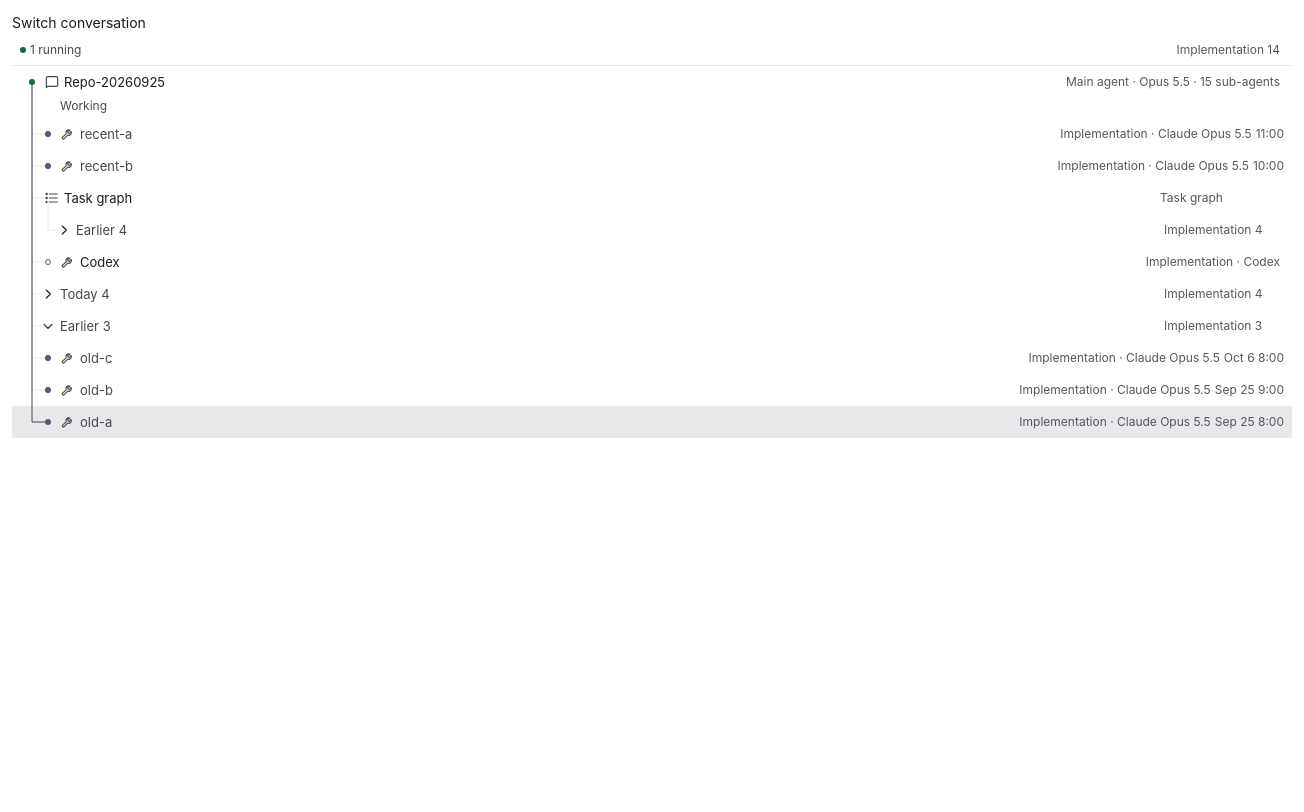
resets embedded task details when switching the child without remounting
Click the list item "Earlier 4 Implementation 4". click: (102, 230)
box: [12,214,1292,246]
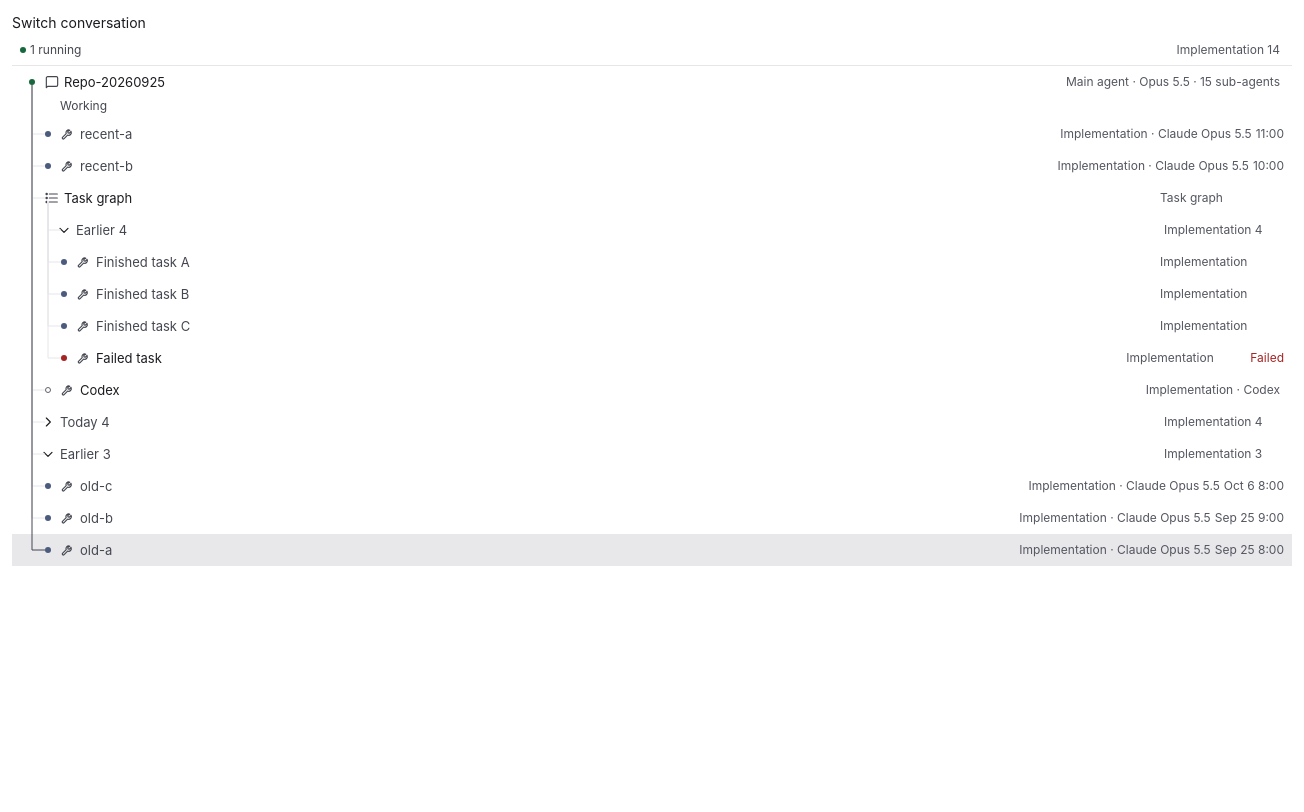
Click the list item "Finished task A Implementation". click: (143, 262)
box: [12,246,1292,278]
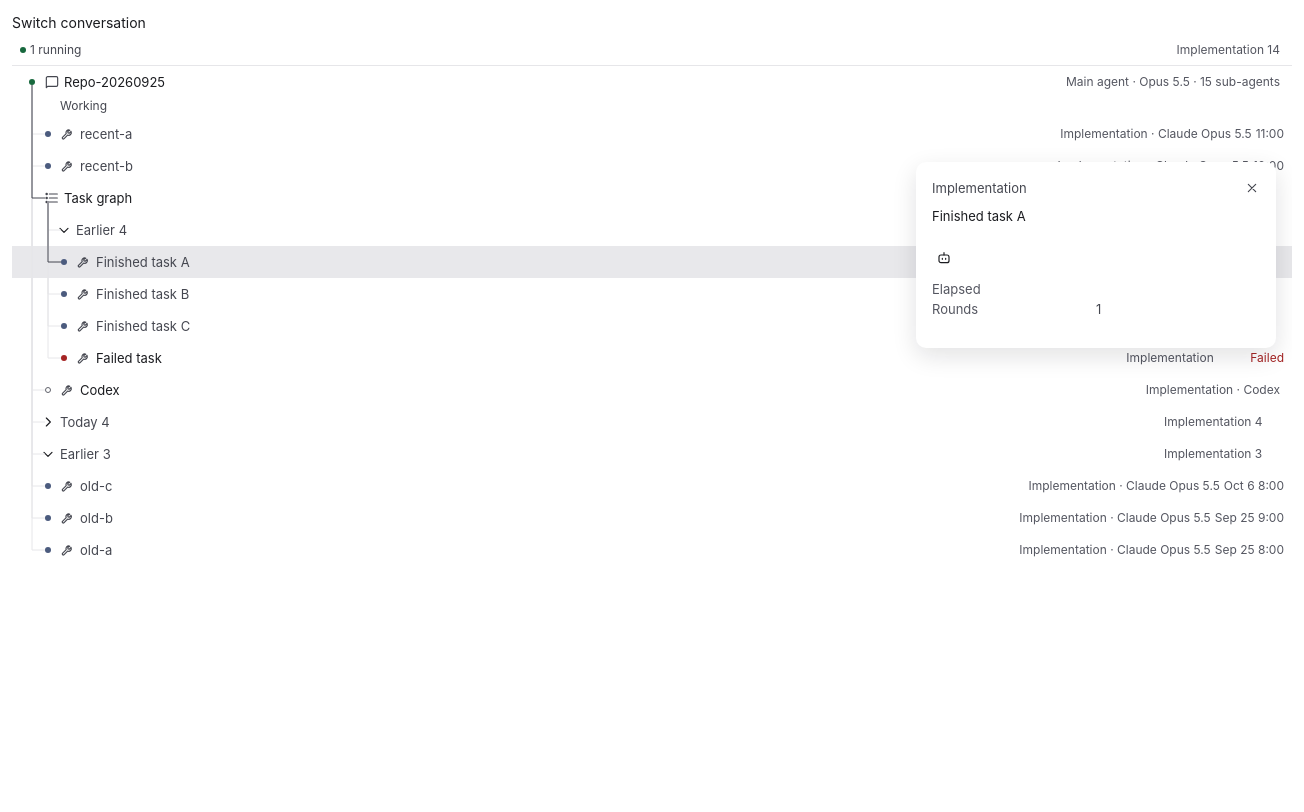
Expected: the element named "Request" shows "Finished task A", [932,208,1026,224]
Click the link "Switch conversation". click: (79, 22)
box: [12,14,146,31]
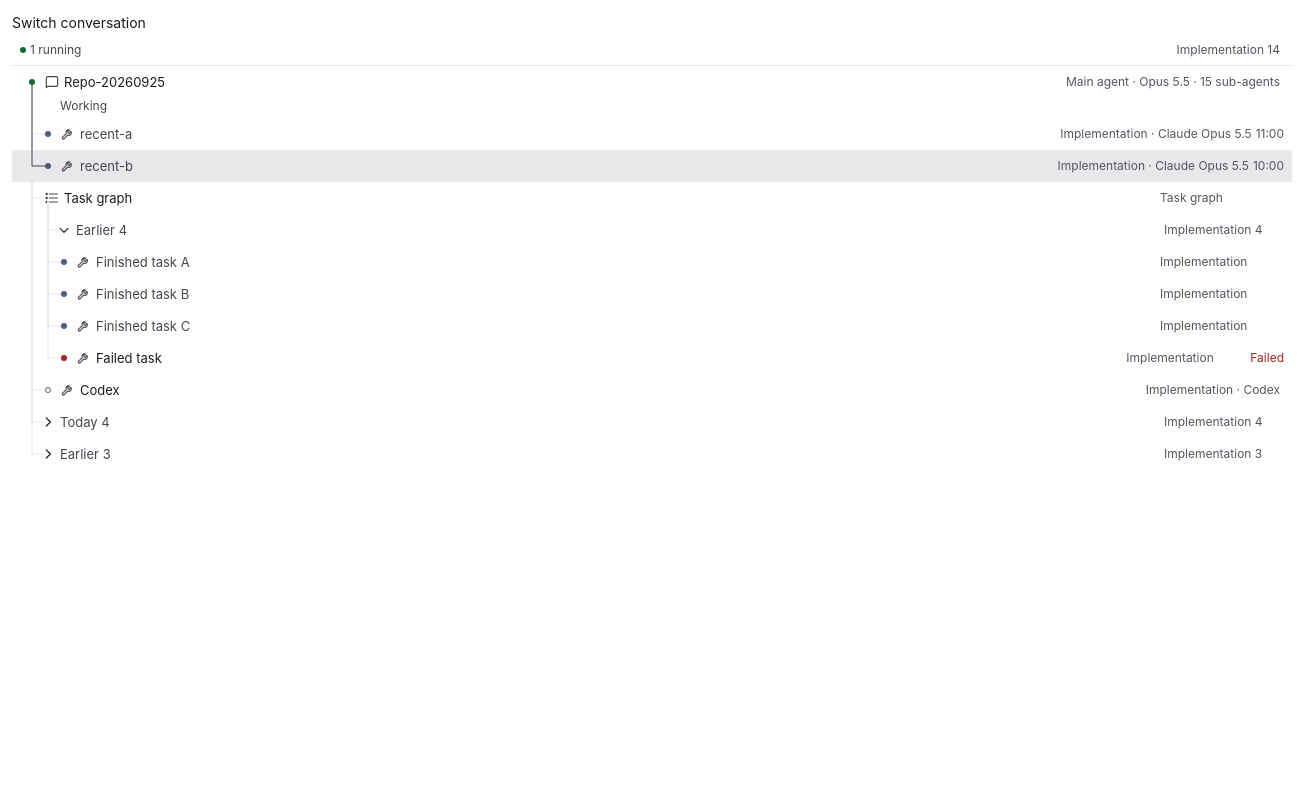
Expected: the element "Request" is gone
